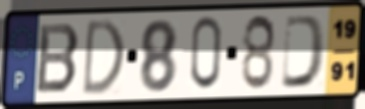0: (188, 14, 224, 94)
8: (137, 17, 180, 94), (239, 12, 279, 93)
B: (34, 21, 82, 96)
D: (80, 17, 127, 99), (279, 13, 328, 91)
